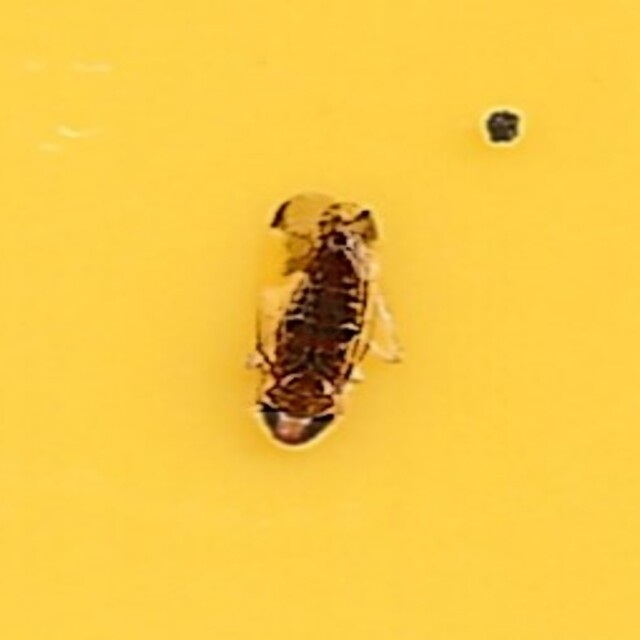Hemiptera: (251, 192, 389, 448)
